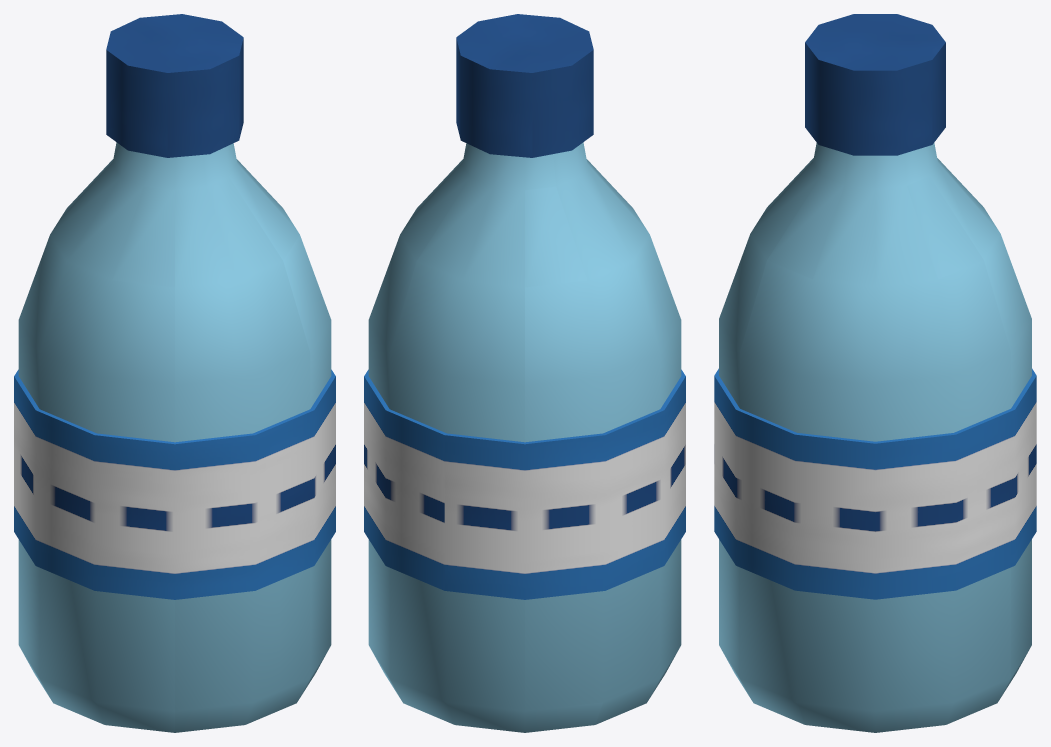
File: pickup_water.glb
3 renders of one model, left to right at view 1: azimuth 30°, elevation 25°; view 2: azimuth 150°, elevation 25°; view 3: azimuth 270°, elevation 25°, orthographic.
Visible parts, largest first — view 1: pickup_water; view 2: pickup_water; view 3: pickup_water.
Part boxes in pixels (<box>): pickup_water: <box>14,14,335,732</box>; pickup_water: <box>364,14,685,732</box>; pickup_water: <box>714,14,1036,732</box>.
Bounding box in the file's own units: 0.206 × 0.445 × 0.206.
1 material, 1 textured.
